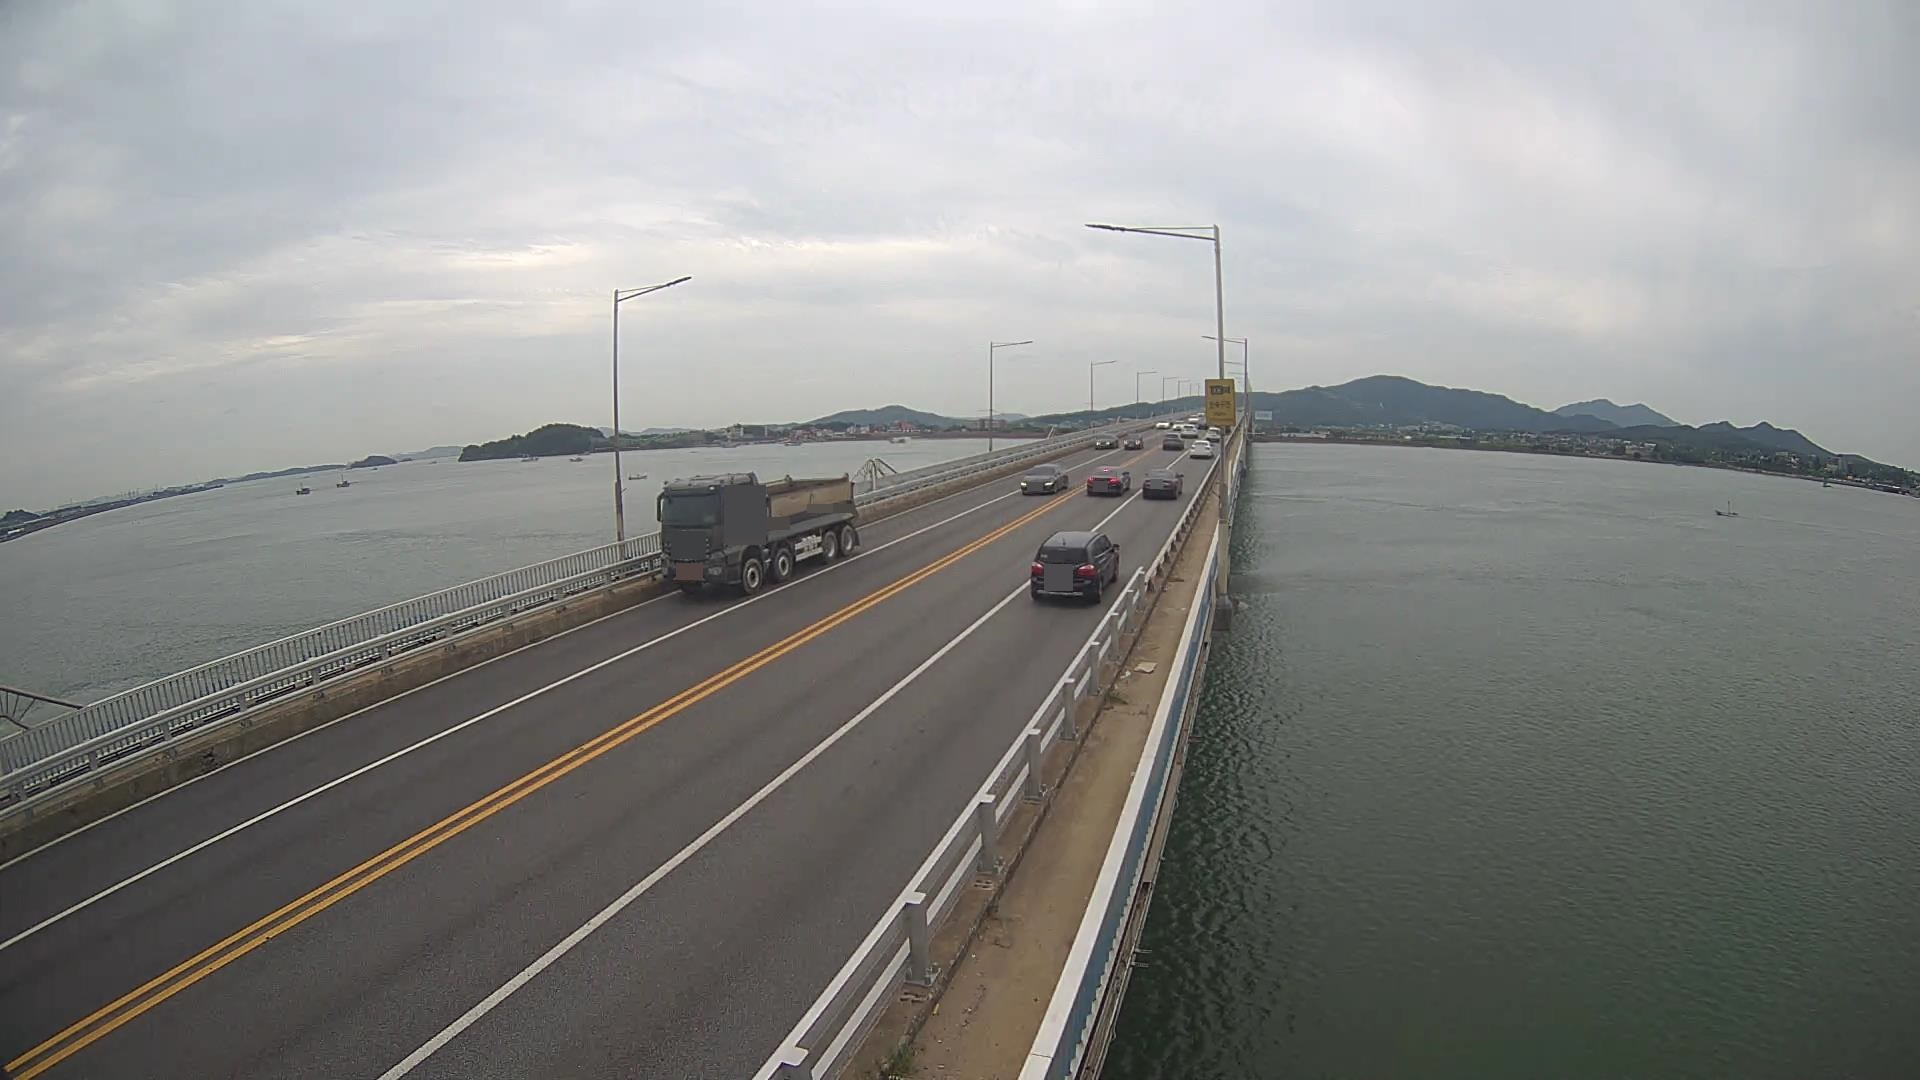정상차량: (657, 471, 861, 596)
